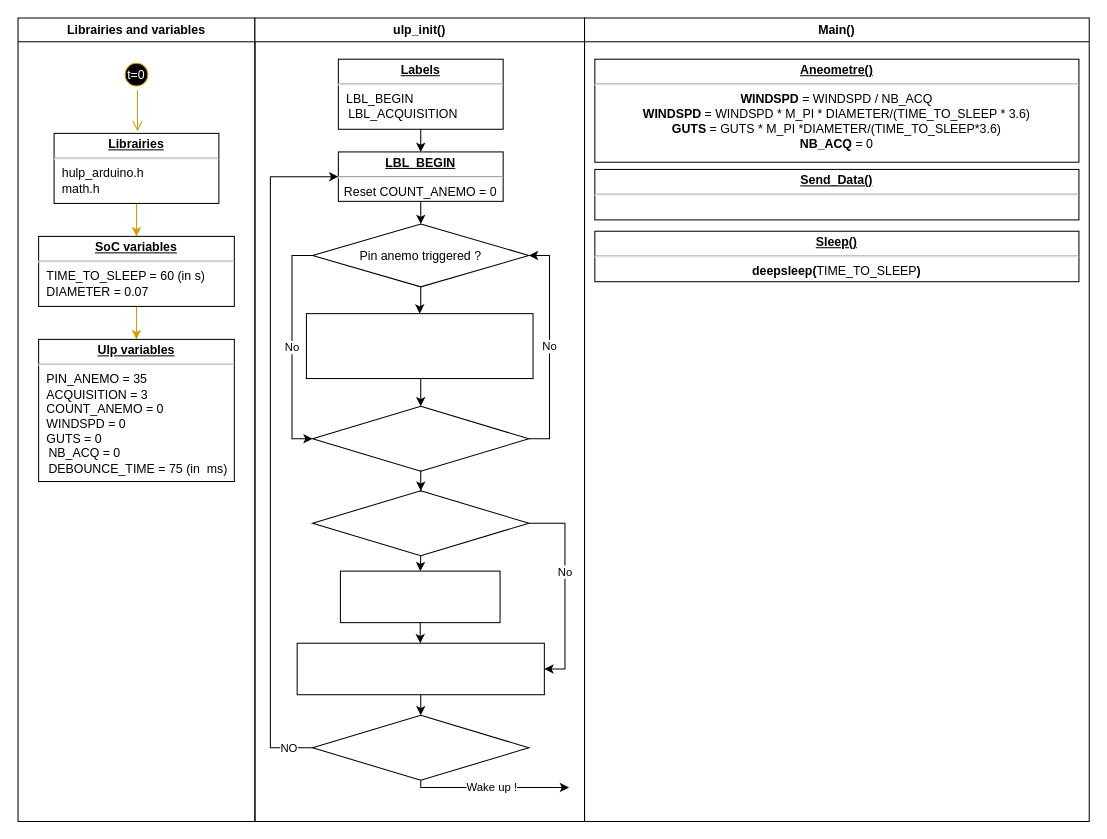
The diagram is 1107 pixels wide and 839 high, and some of its shapes have lost their labels. Each missing label, with the centre of its shape:
"COUNT_ANEMO > GUTS" belongs at point 420,523.
"LBL_ACQUISITION COUNT_ANEMO ++ COUNT_ANEMO = COUNT_ANEMO /2" belongs at point 419,346.
"LBL_GUTS GUTS = COUNT_ANEMO" belongs at point 419,596.
"NB_ACQ ++ WINDSPD = + COUNT_ANEMO" belongs at point 420,668.
"t = ACQUISITION ?" belongs at point 420,438.
"t = TIME_TO_SLEEP ?" belongs at point 420,747.
